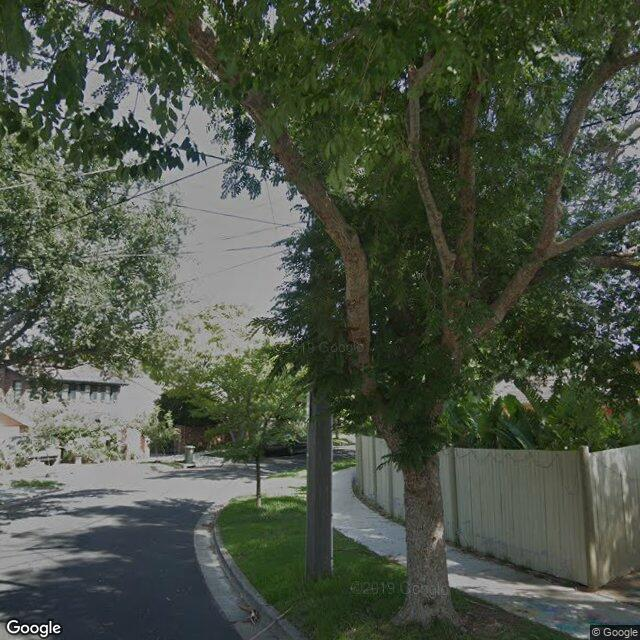timber-pole: (304, 206, 336, 583)
